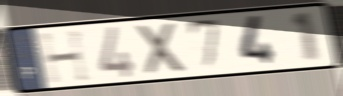1: (290, 9, 322, 66)
4: (237, 13, 281, 70), (97, 23, 137, 81)
7: (186, 17, 224, 73)
H: (36, 27, 94, 86)
X: (134, 20, 190, 79)
